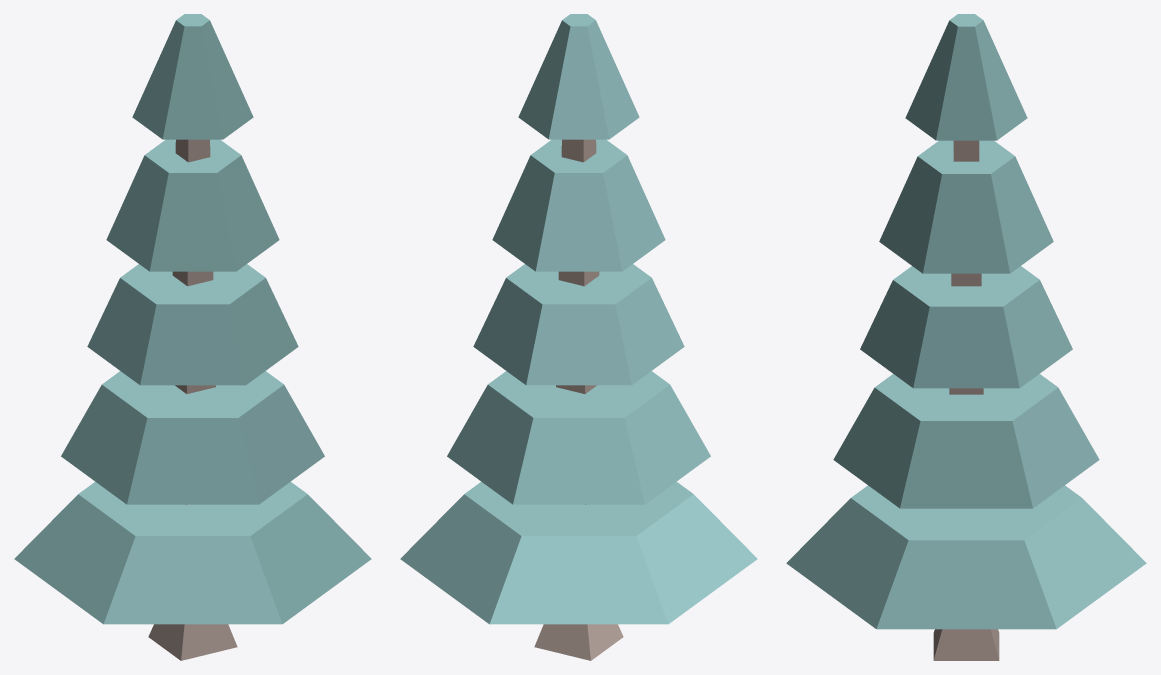
File: nat_tree_pineRoundA.glb
3 renders of one model, left to right at view 1: azimuth 30°, elevation 25°; view 2: azimuth 150°, elevation 25°; view 3: azimuth 270°, elevation 25°, orthographic.
Visible parts, largest first — view 1: geometry_0; view 2: geometry_0; view 3: geometry_0.
Boxes of the visible parts, bbox=[...] form: geometry_0: bbox=[14, 14, 371, 660]; geometry_0: bbox=[400, 14, 757, 660]; geometry_0: bbox=[786, 14, 1146, 660].
Bounding box in the file's own units: 0.4516 × 1 × 0.5214.
